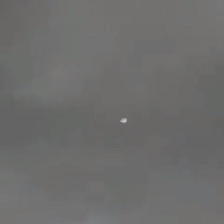Target: (120, 118, 127, 123)
